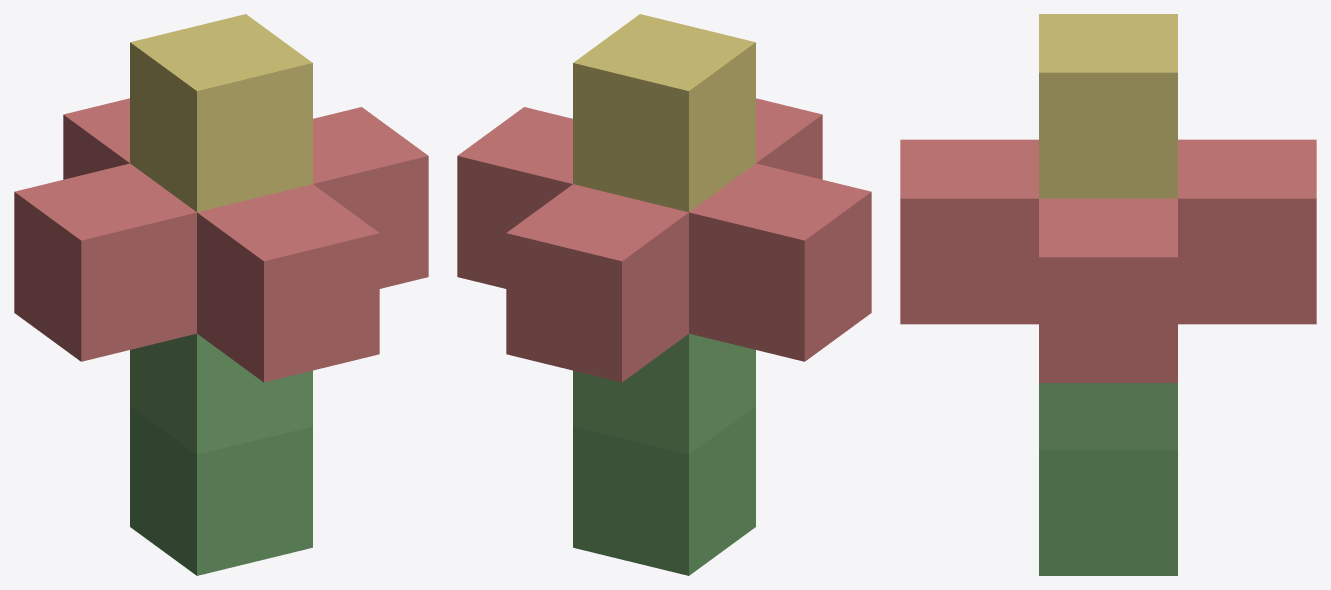
Rendered from fleur_0.glb.
3 views of the same model, side by side, from view 1: azimuth 30°, elevation 25°; view 2: azimuth 150°, elevation 25°; view 3: azimuth 270°, elevation 25° (orthographic). The views are drawn at different scales.
Visible parts, largest first — view 1: geometry_0; view 2: geometry_0; view 3: geometry_0.
Part boxes in pixels (x1,y1,x2,y2): geometry_0: [14, 14, 428, 575]; geometry_0: [457, 14, 871, 575]; geometry_0: [900, 14, 1316, 575].
Size of the model in its own units: 0.375 by 0.5 by 0.375.
